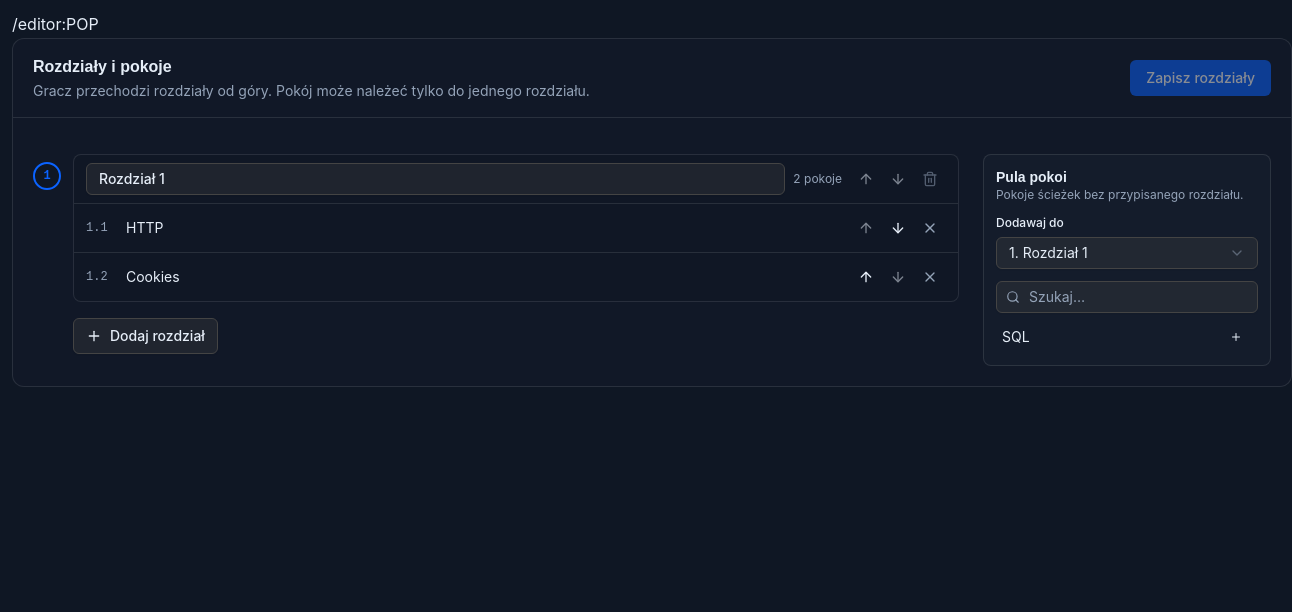
chapters editor › warns about removed chapters, blocks empty names and shows server errors
Click the button "Dodaj rozdział": (145, 336) [73,318,218,354]
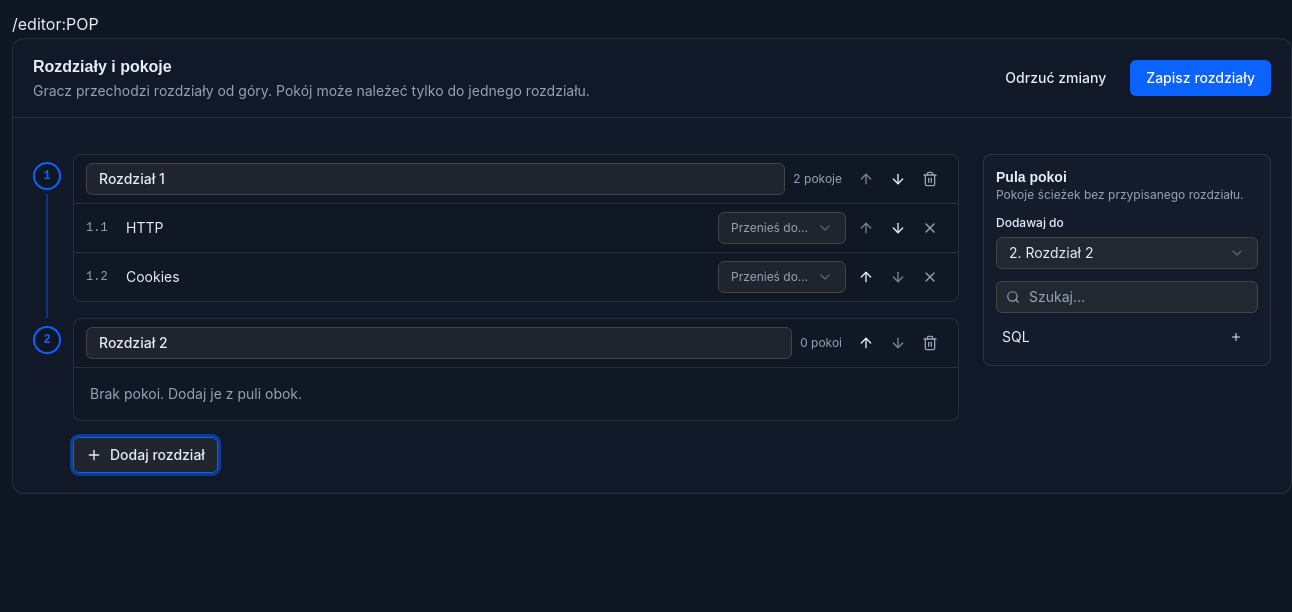
Clear the 2nd field named "Nazwa rozdziału 2": (439, 343) [86,327,792,359]
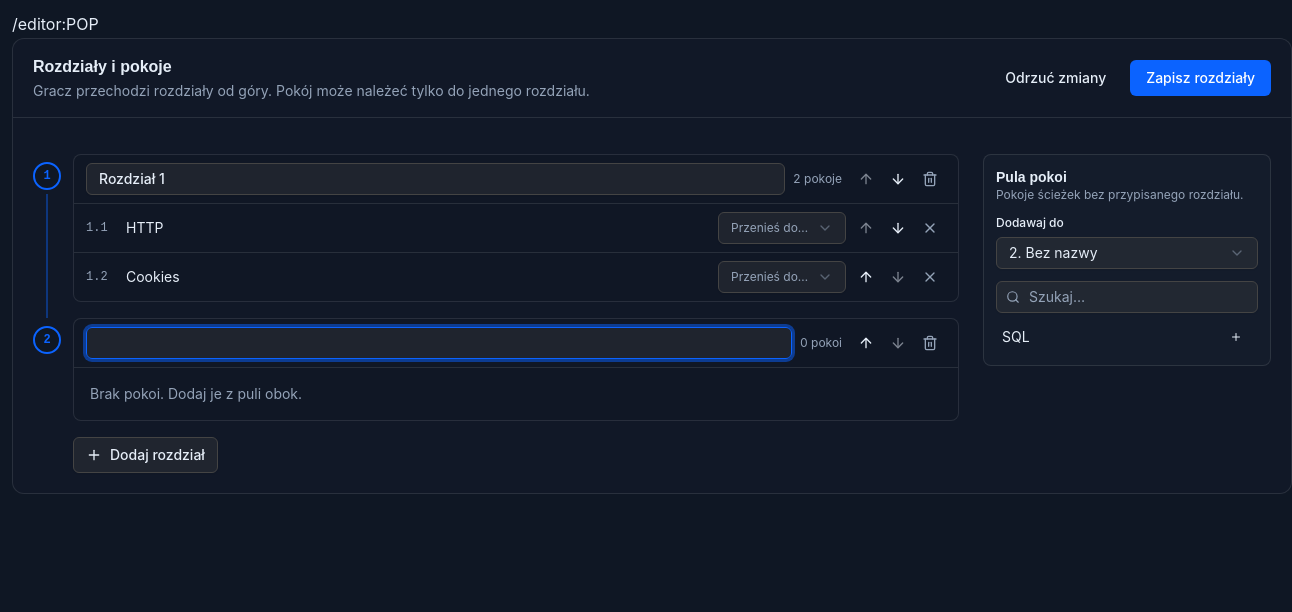
Click the button "Zapisz rozdziały": (1201, 78) [1130,60,1271,96]
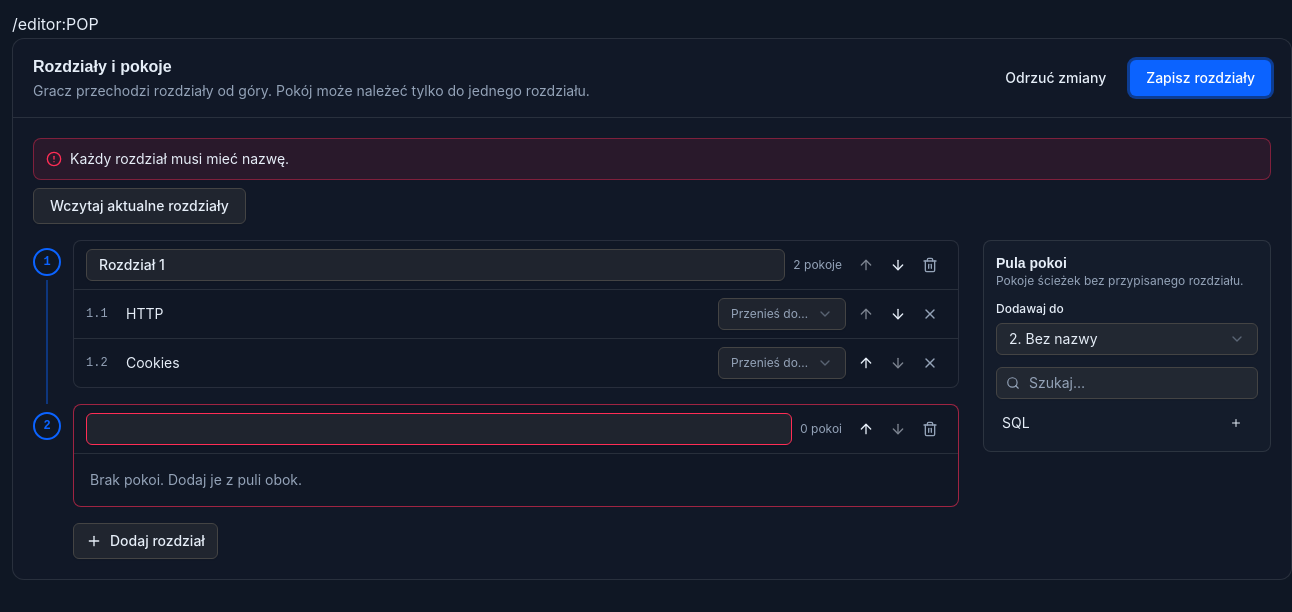
Check: the text "Każdy rozdział musi mieć nazwę." is shown, box [70,149,289,169]
In the 2nd field named "Nazwa rozdziału 2": (439, 429) [86,413,792,445], type "Nowy"
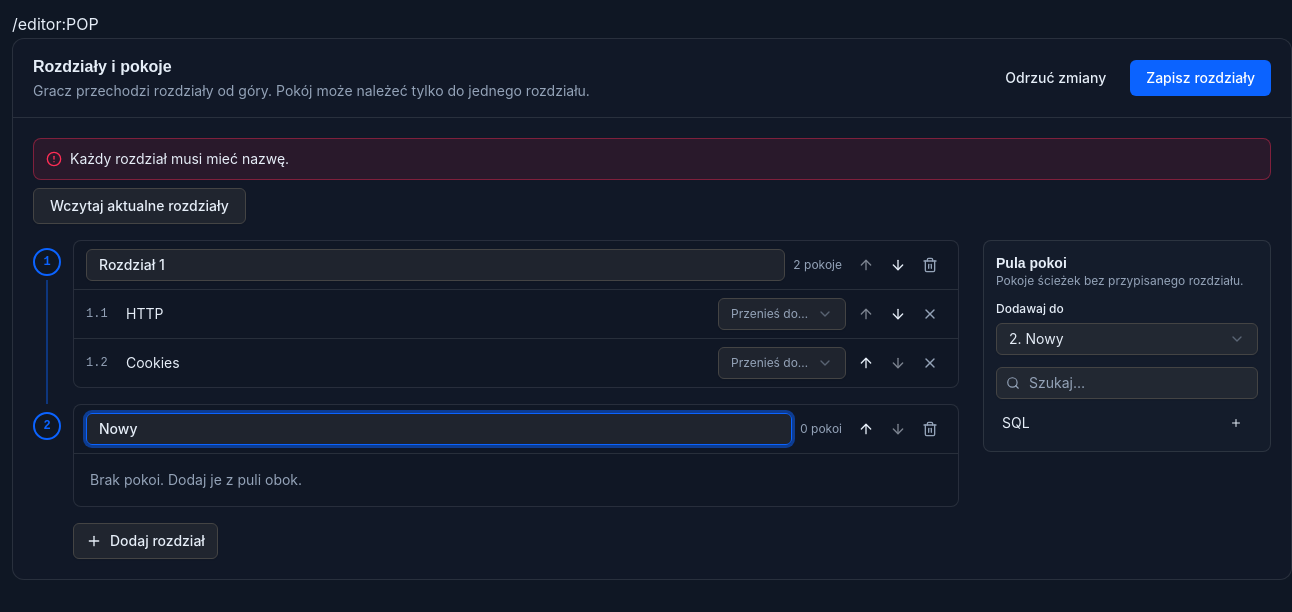
Click the button named "Usuń rozdział 1": (930, 265) [914,249,946,281]
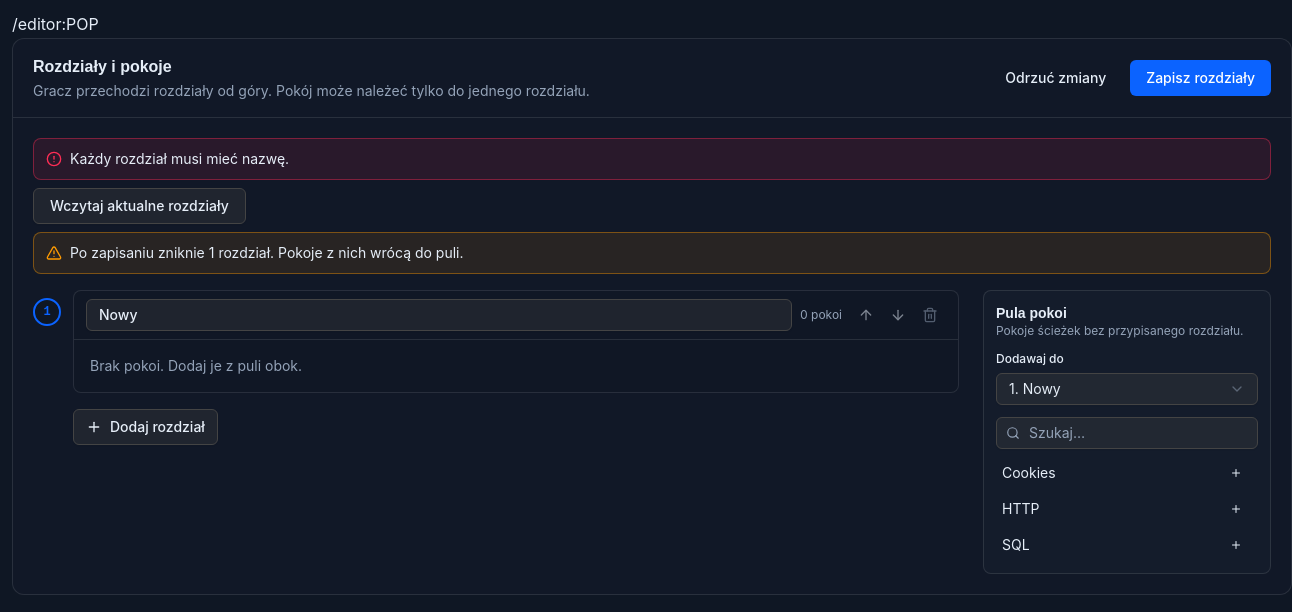
Check: the text "zniknie 1 rozdział" is shown, box [70,243,464,263]
Click the button "Zapisz rozdziały": (1201, 78) [1130,60,1271,96]
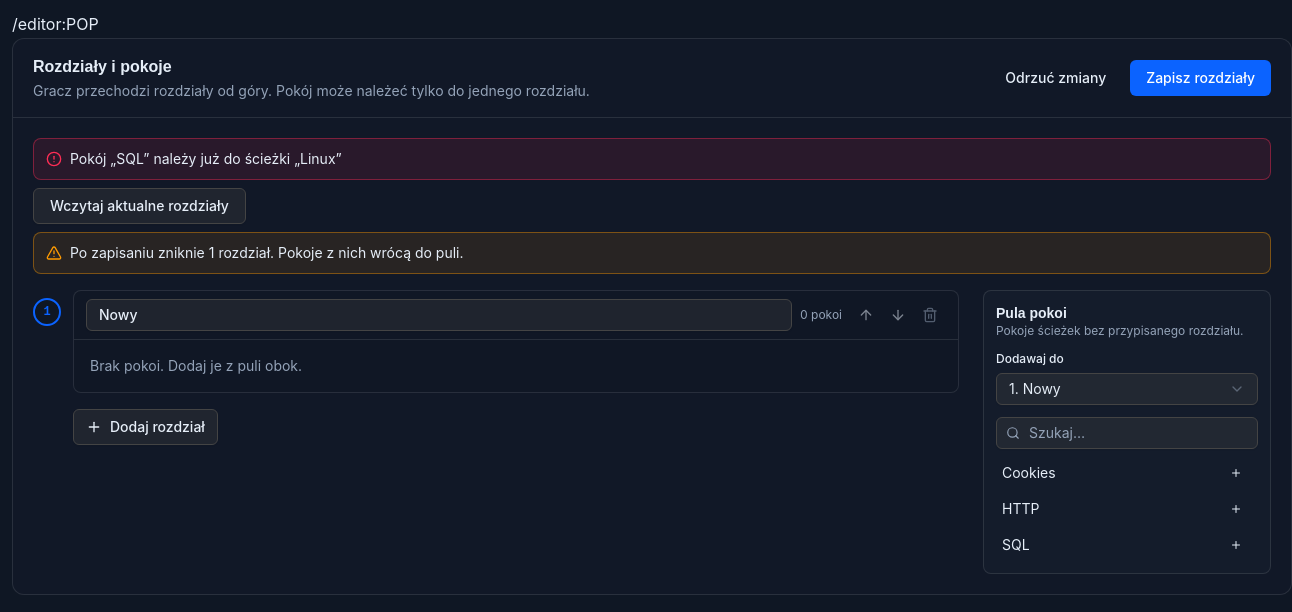
Check: the text "Pokój „SQL” należy już do ścieżki „Linux”" is shown, box [70,149,342,169]
